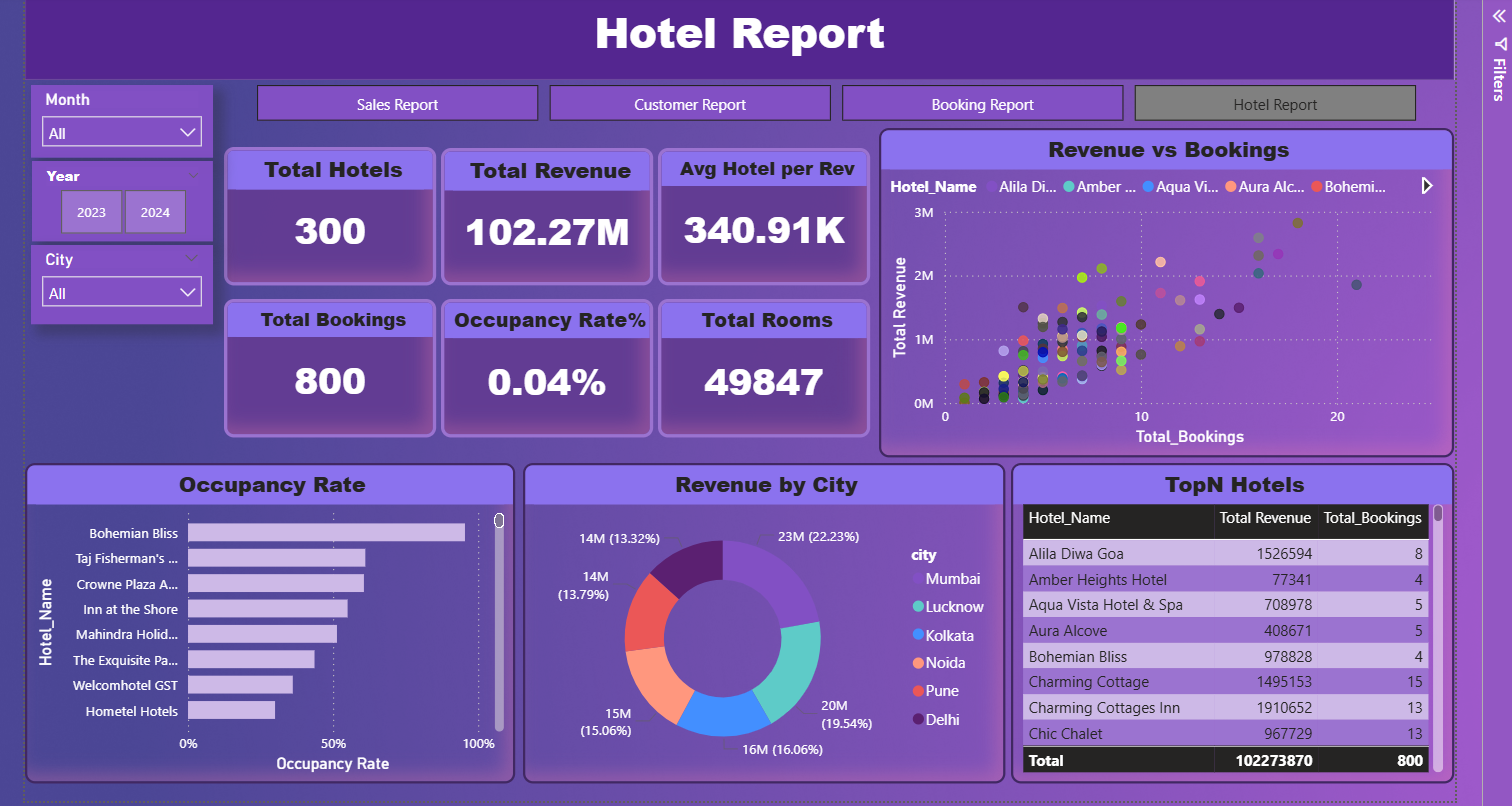

This screenshot's page, from the dashboard's own definition file:
{"tool":"powerbi","page":{"name":"Hotel Report","canvas":[1280,720],"ordinal":3},"visuals":[{"type":"shape","box":[0,0,1279.7,74.3],"z":0},{"type":"card","title":"Total Hotels","fields":{"Values":["All Measures.Total Hotels"]},"box":[178.2,134.3,189.9,123.6],"z":1000},{"type":"card","title":"Total Revenue","fields":{"Values":["All Measures.Total Revenue"]},"box":[372.5,135.2,189.9,122.7],"z":2000},{"type":"card","title":"Avg Hotel per Rev","fields":{"Values":["All Measures.Avg Rev per Hotel"]},"box":[566.9,135.2,189.9,122.7],"z":3000},{"type":"slicer","title":"Month","fields":{"Values":["Date.Date.Variation.Date Hierarchy.Month"]},"box":[5.4,78.8,163,65.4],"z":4000},{"type":"card","title":"Occupancy Rate%","fields":{"Values":["All Measures.Occupany Rate"]},"box":[372.5,270.4,189.9,123.6],"z":5000},{"type":"card","title":"Total Rooms","fields":{"Values":["All Measures.Total Rooms"]},"box":[566.9,270.4,189.9,123.6],"z":6000},{"type":"textbox","box":[0,0,1279.7,74.3],"z":7000},{"type":"scatterChart","title":"Revenue vs Bookings","fields":{"X":["All Measures.Total_Bookings"],"Y":["All Measures.Total Revenue"],"Series":["hotels.Hotel_Name"]},"box":[764.8,117.3,514.9,294.6],"z":8000},{"type":"pageNavigator","box":[207.8,78.8,1038.8,32.2],"z":9000},{"type":"slicer","title":"Month","fields":{"Values":["Date.Date.Variation.Date Hierarchy.Year"]},"box":[6.3,146.9,162.1,71.6],"z":10000},{"type":"slicer","title":"Month","fields":{"Values":["hotels.city"]},"box":[5.4,222.1,163,70.7],"z":11000},{"type":"barChart","title":"Occupancy Rate","fields":{"Category":["hotels.Hotel_Name"],"Y":["All Measures.Occupany Rate"]},"box":[0,417.3,438.8,287.5],"z":12000},{"type":"donutChart","title":"Revenue by City","fields":{"Category":["hotels.city"],"Y":["All Measures.Total Revenue"]},"box":[446,417.3,431.6,287.5],"z":13000},{"type":"tableEx","title":"TopN Hotels","fields":{"Values":["hotels.Hotel_Name","All Measures.Total Revenue","All Measures.Total_Bookings"]},"box":[883,417.3,396.7,287.5],"z":14000},{"type":"card","title":"Total Bookings","fields":{"Values":["All Measures.Total_Bookings"]},"box":[178.2,270.4,189.9,123.6],"z":15000}]}

Visuals, with their boxes on the page's 1280x720 design canvas (x1, y1, x2, y2). These are canvas units, not pixel positions in the 1512x806 screenshot, which may show the page scaled, cropped or inside an application window:
shape: region(0, 0, 1280, 74)
"Total Hotels" card: region(178, 134, 368, 258)
"Total Revenue" card: region(372, 135, 562, 258)
"Avg Hotel per Rev" card: region(567, 135, 757, 258)
"Month" slicer: region(5, 79, 168, 144)
"Occupancy Rate%" card: region(372, 270, 562, 394)
"Total Rooms" card: region(567, 270, 757, 394)
textbox: region(0, 0, 1280, 74)
"Revenue vs Bookings" scatterChart: region(765, 117, 1280, 412)
pageNavigator: region(208, 79, 1247, 111)
"Month" slicer: region(6, 147, 168, 218)
"Month" slicer: region(5, 222, 168, 293)
"Occupancy Rate" barChart: region(0, 417, 439, 705)
"Revenue by City" donutChart: region(446, 417, 878, 705)
"TopN Hotels" tableEx: region(883, 417, 1280, 705)
"Total Bookings" card: region(178, 270, 368, 394)
